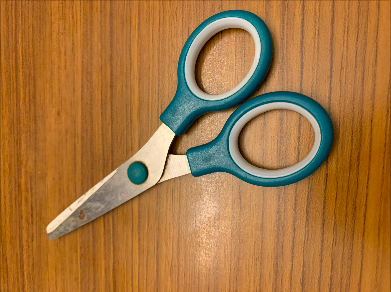object_name: (45, 125, 273, 206)
